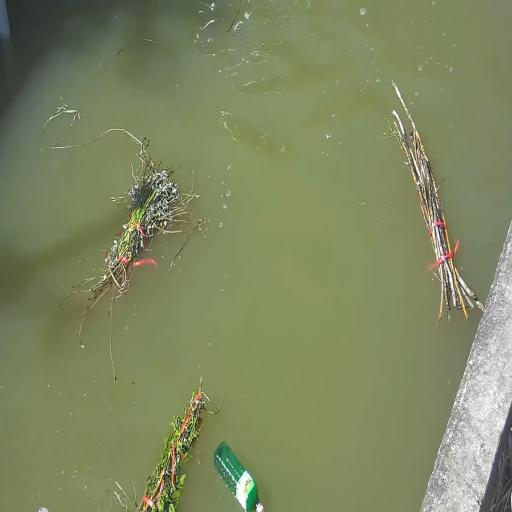plastic: (210, 433, 272, 512)
twig: (388, 85, 484, 311), (93, 154, 181, 308), (129, 385, 205, 512)
